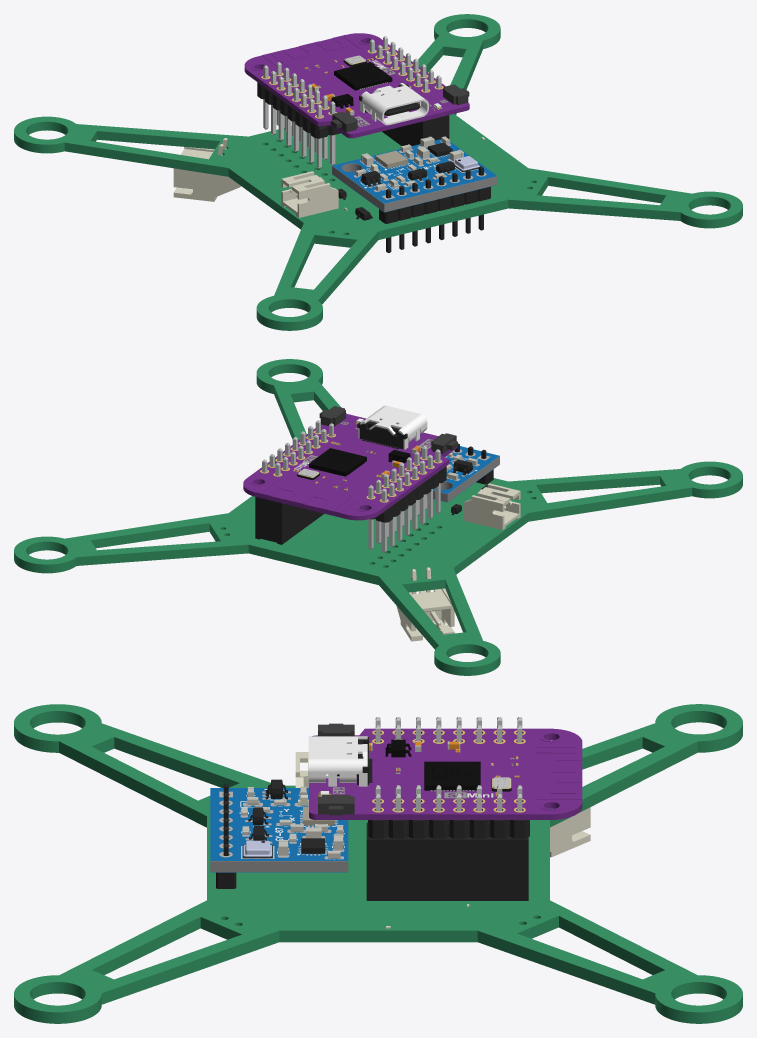
File: pcb_model.dae
The picture shows the model from 3 angles, top to bottom: view 1: azimuth 30°, elevation 25°; view 2: azimuth 150°, elevation 25°; view 3: azimuth 270°, elevation 25°; orthographic projection. The views are drawn at different scales.
Visible parts, largest first — view 1: node1, node37, node251, node34, node8, node10, node253, node35, node9, node459, node496; view 2: node1, node37, node9, node8, node10, node253, node459, node496, node256, node251, node35; view 3: node1, node37, node9, node251, node523, node253, node35, node459, node10, node34, node40.
Boxes of the visible parts, left/top/right/bottom form: node1: left=14, top=14, right=742, bottom=330; node37: left=244, top=33, right=469, bottom=138; node251: left=332, top=139, right=497, bottom=203; node34: left=379, top=166, right=490, bottom=252; node8: left=281, top=171, right=338, bottom=217; node10: left=173, top=138, right=240, bottom=201; node253: left=360, top=83, right=428, bottom=125; node35: left=332, top=163, right=497, bottom=212; node9: left=382, top=115, right=449, bottom=145; node459: left=334, top=62, right=392, bottom=90; node496: left=257, top=82, right=328, bottom=138; node1: left=14, top=359, right=742, bottom=675; node37: left=243, top=413, right=457, bottom=520; node9: left=255, top=497, right=323, bottom=544; node8: left=463, top=483, right=520, bottom=530; node10: left=396, top=567, right=454, bottom=641; node253: left=358, top=405, right=427, bottom=449; node459: left=309, top=448, right=366, bottom=476; node496: left=375, top=466, right=446, bottom=522; node256: left=357, top=419, right=407, bottom=449; node251: left=433, top=446, right=499, bottom=493; node35: left=427, top=456, right=499, bottom=502; node1: left=14, top=704, right=742, bottom=1023; node37: left=309, top=728, right=582, bottom=819; node9: left=366, top=822, right=528, bottom=900; node251: left=210, top=788, right=348, bottom=860; node523: left=368, top=820, right=529, bottom=838; node253: left=308, top=736, right=367, bottom=786; node35: left=210, top=802, right=348, bottom=872; node459: left=424, top=761, right=480, bottom=790; node10: left=550, top=807, right=590, bottom=857; node34: left=216, top=784, right=236, bottom=888; node40: left=318, top=795, right=354, bottom=815.
Size of the model in its own units: 0.0915 by 0.0914 by 0.023.
